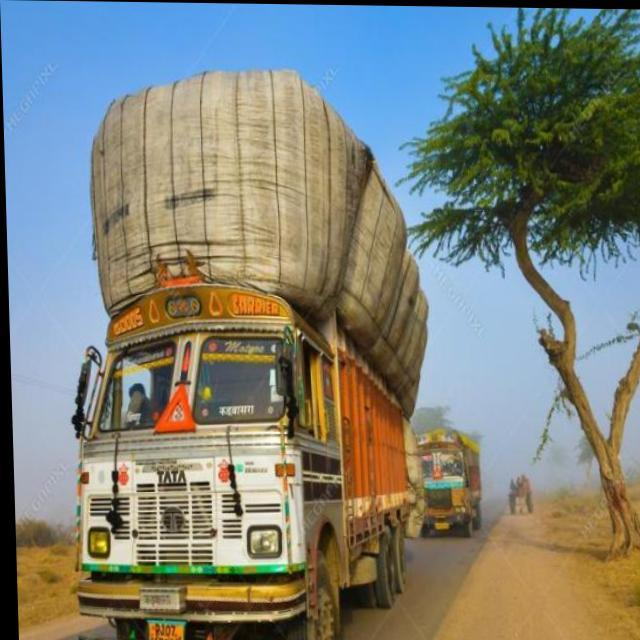covered: (64, 61, 436, 640)
